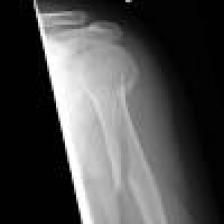spiral-fracture: (34, 0, 205, 224)
